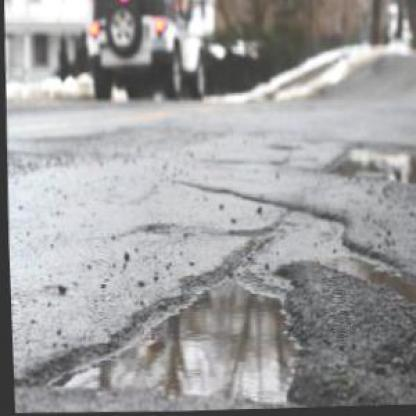pothole: (31, 259, 305, 412)
